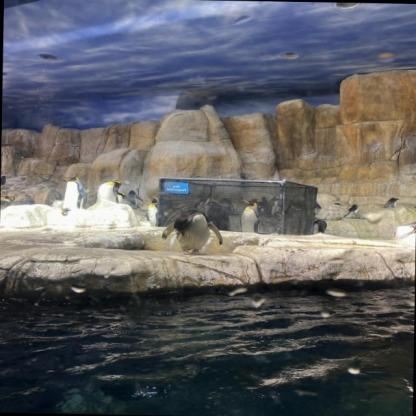penguin: (163, 210, 215, 254), (60, 173, 90, 213), (232, 198, 264, 235), (93, 178, 121, 206), (390, 219, 415, 239), (123, 187, 142, 211), (146, 196, 160, 226), (309, 219, 327, 236), (382, 196, 399, 210), (21, 191, 34, 207), (0, 196, 14, 210), (347, 204, 356, 214), (1, 175, 7, 186)
